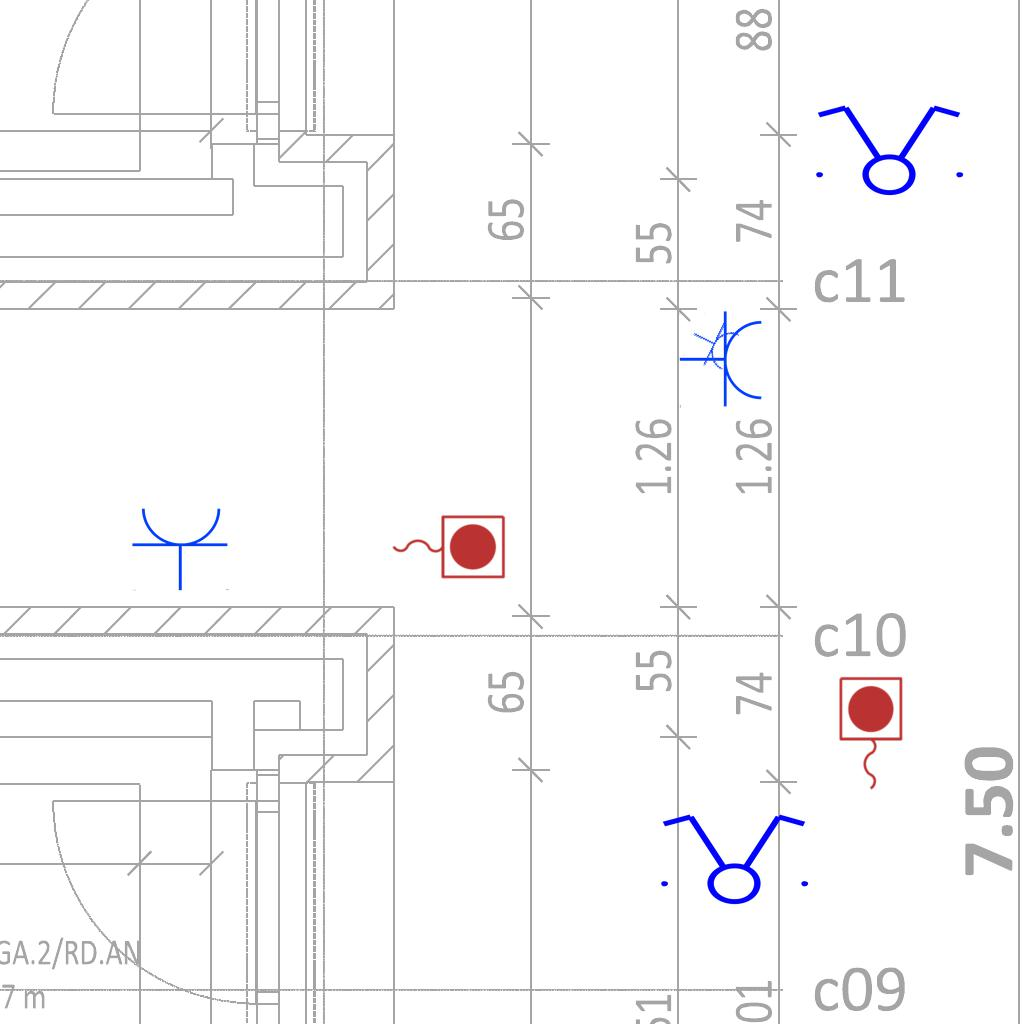Schukosteckdose_einfach: (679, 310, 766, 410), (131, 504, 231, 591), (682, 311, 744, 376)
Serienschalter: (804, 101, 972, 197), (649, 810, 817, 906)
Zugtaster: (387, 510, 509, 582), (834, 673, 906, 795)
